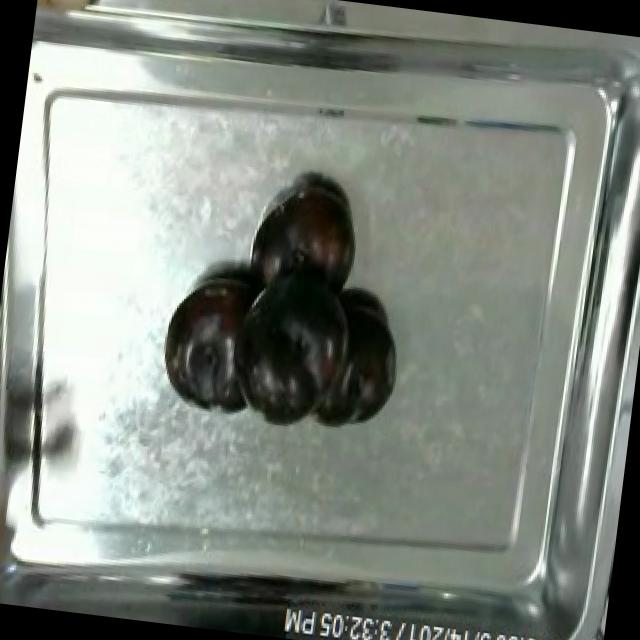Fruit: (154, 264, 261, 423), (256, 176, 364, 306), (0, 473, 28, 604), (34, 0, 107, 33)
